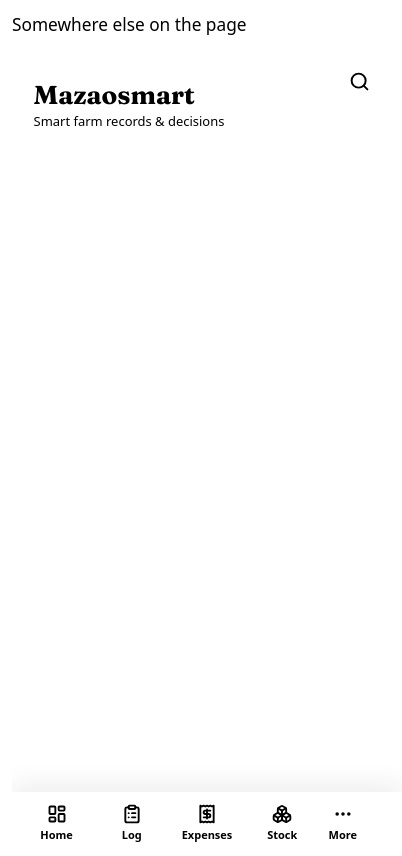
Test: Header — "More" menu opens and closes correctly › closes when clicking outside the menu — the gap native <details> has no built-in way to cover
Step 1. Click the button "More" → click(343, 824), box x1=321 y1=800 x2=365 y2=848
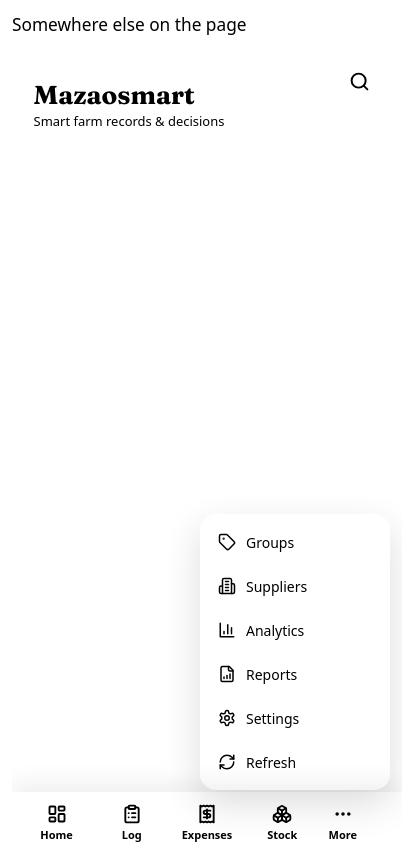
Expected: the menu is shown, x1=200 y1=514 x2=390 y2=790
Step 2. Press the mouse on the text with test id "outside-content" → (129, 24), box x1=12 y1=13 x2=246 y2=36
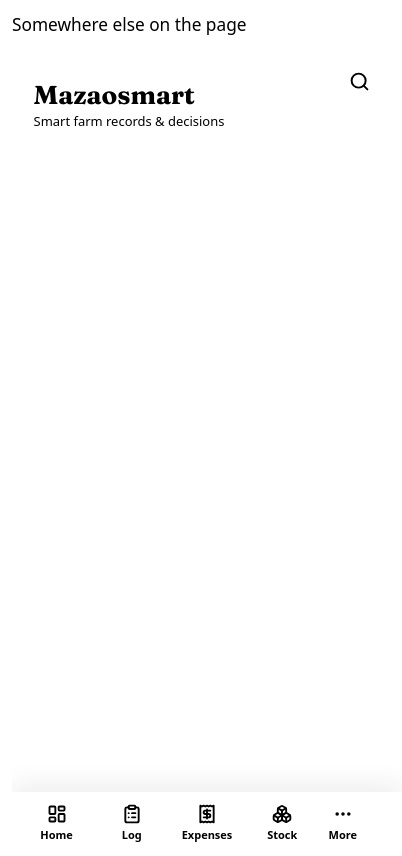
Expected: the menu is gone
